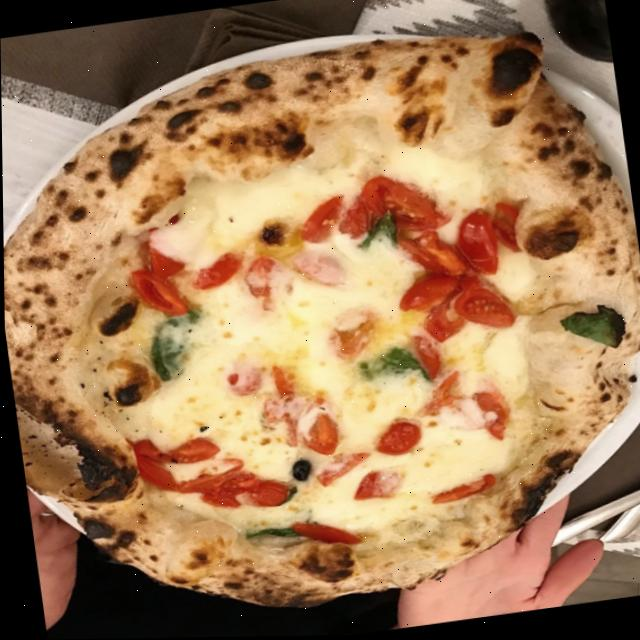basil: (234, 481, 317, 547), (351, 343, 434, 404), (142, 308, 207, 384), (553, 302, 630, 358), (350, 206, 401, 261)
pizza: (0, 5, 640, 640)
tomatoes: (359, 168, 450, 239), (123, 429, 221, 471), (124, 264, 193, 323), (449, 282, 514, 339), (411, 331, 461, 396), (456, 206, 499, 281), (289, 193, 347, 247), (289, 513, 360, 554), (140, 219, 185, 282), (292, 394, 336, 458), (391, 273, 458, 315), (410, 227, 461, 282), (324, 311, 377, 361), (181, 249, 242, 292), (173, 468, 256, 499), (245, 255, 290, 312), (307, 448, 371, 488), (425, 473, 498, 508), (467, 384, 510, 442), (417, 295, 463, 347), (257, 396, 299, 452), (366, 417, 423, 458), (346, 466, 400, 504), (488, 199, 523, 255), (136, 453, 181, 495), (333, 195, 370, 243), (420, 373, 462, 415), (239, 475, 285, 509), (190, 457, 244, 482), (218, 366, 258, 398), (267, 360, 298, 399), (195, 493, 236, 514)
